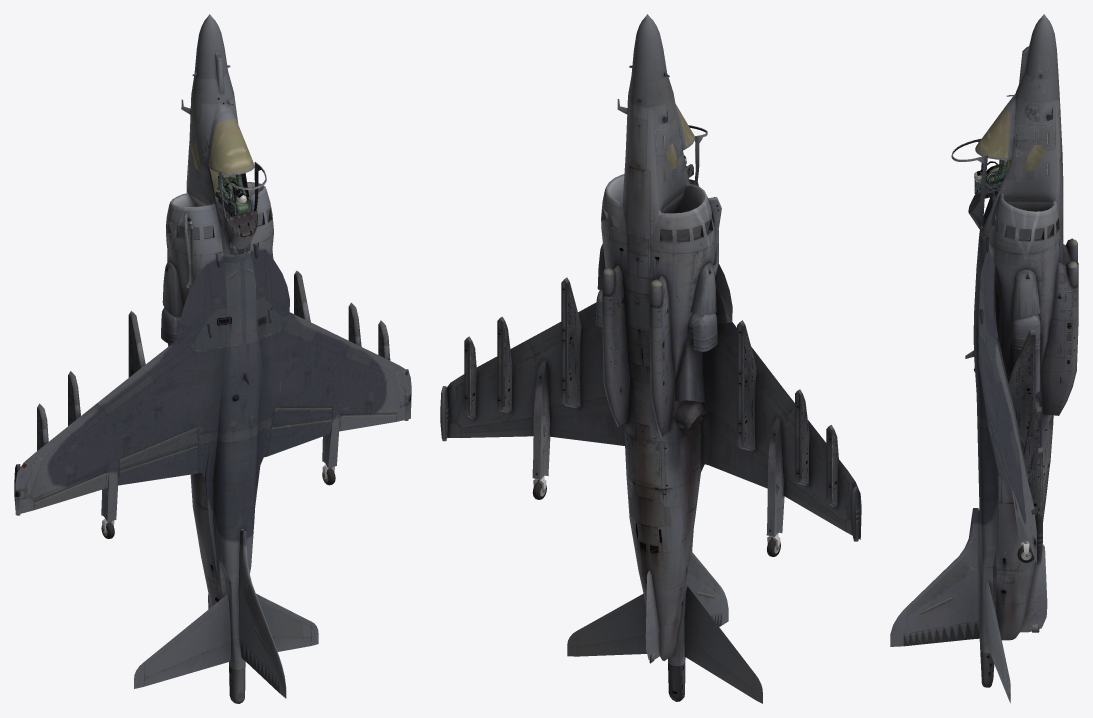
File: AV-8B_Harrier_II.obj
The picture shows the model from 3 angles, left to right: view 1: azimuth 30°, elevation 25°; view 2: azimuth 150°, elevation 25°; view 3: azimuth 270°, elevation 25°; orthographic projection. The views are drawn at different scales.
Parts seen in each view (by area): view 1: LOD0, ElevatorL01, FlapL01, ElevatorR01, Glass01, FlapR01, Canopy01, BrakeL01, AileronL01, BrakeR01, AileronR01, Pilot; view 2: LOD0, ElevatorL01, ElevatorR01, FlapR01, FlapL01, EngineL01, AileronR01, BrakeL02, AileronL01, EngineL02; view 3: LOD0, ElevatorR01, Glass01, RudderL01, Canopy01, EngineL01, Pilot, Glass_Canopy01.
Boxes of the visible parts, x1,y1,x2,y2 form: LOD0: (14, 14, 411, 703); ElevatorL01: (134, 594, 230, 688); FlapL01: (118, 443, 198, 485); ElevatorR01: (256, 593, 318, 651); Glass01: (209, 118, 253, 172); FlapR01: (267, 416, 332, 456); Canopy01: (220, 162, 266, 251); BrakeL01: (119, 426, 197, 468); AileronL01: (34, 470, 109, 510); BrakeR01: (272, 406, 333, 424); AileronR01: (339, 412, 397, 431); Pilot: (217, 173, 246, 204); LOD0: (440, 14, 861, 701); ElevatorL01: (684, 586, 762, 703); ElevatorR01: (567, 593, 646, 656); FlapR01: (550, 413, 624, 445); FlapL01: (708, 431, 767, 488); EngineL01: (595, 290, 717, 351); AileronR01: (461, 417, 533, 437); BrakeL02: (629, 482, 669, 526); AileronL01: (783, 476, 845, 531); EngineL02: (609, 400, 705, 436); LOD0: (890, 14, 1078, 687); ElevatorR01: (984, 580, 1010, 703); Glass01: (976, 105, 1010, 157); RudderL01: (903, 622, 971, 646); Canopy01: (951, 138, 987, 229); EngineL01: (1012, 314, 1040, 350); Pilot: (974, 159, 1009, 185); Glass_Canopy01: (1007, 145, 1045, 171).
Size of the model in its own units: 8.91 by 14.36 by 3.65.
Materials: 4 (4 with a texture image).
